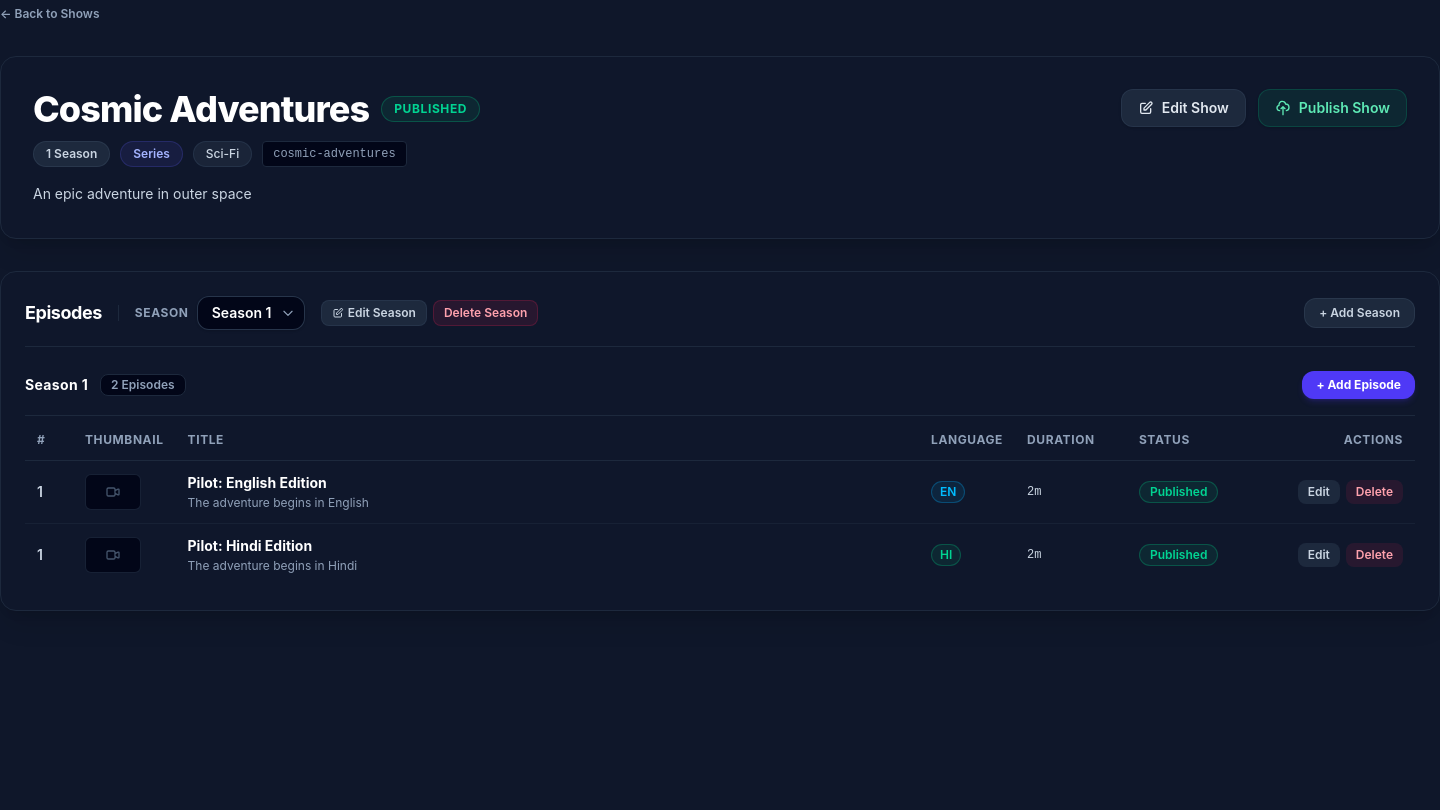
Test case: CMS Episode Management › deletes an episode with confirmation dialog
Click the button with test id "delete-episode-ep-101-en".
click(1374, 492)  # box [1346,480,1403,504]
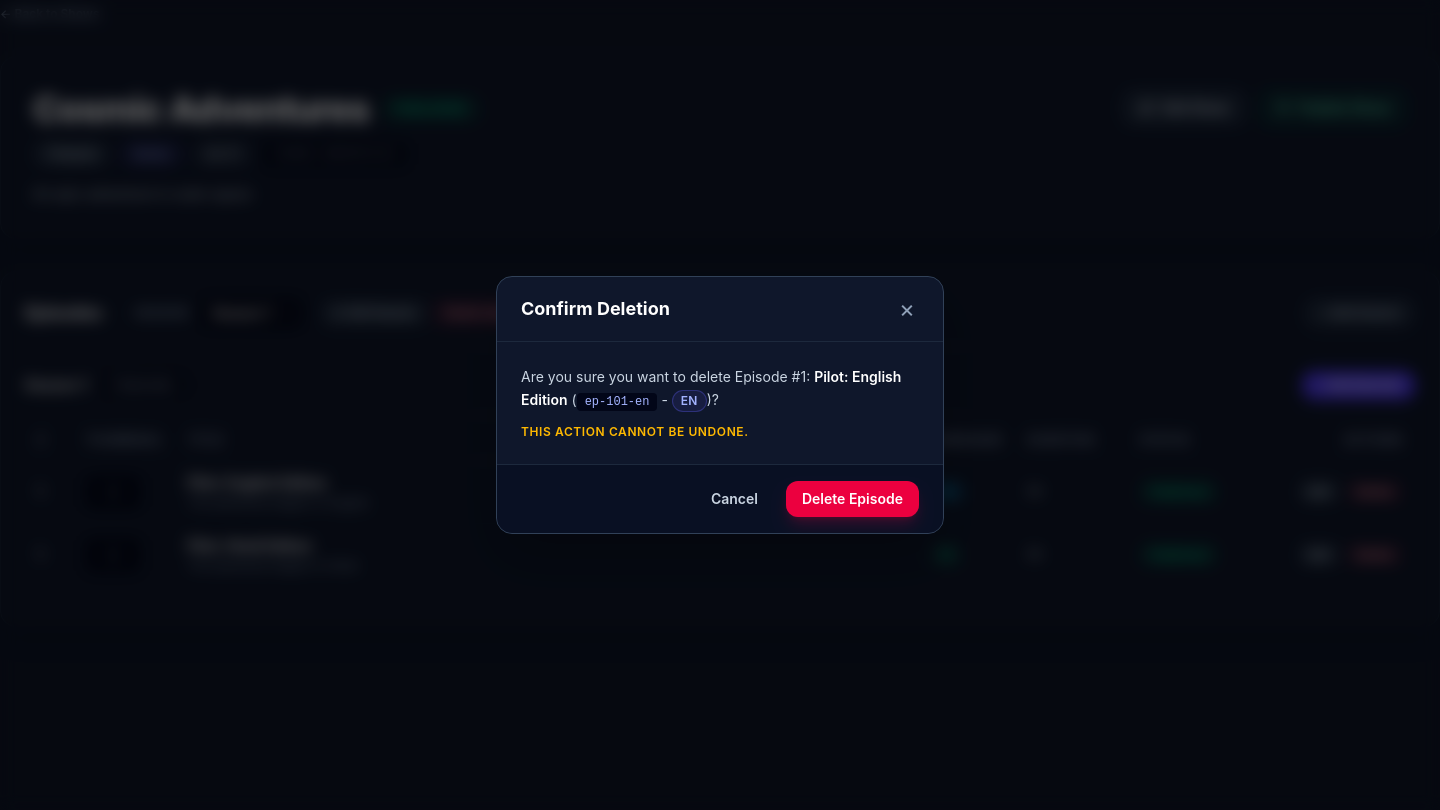
Now the heading "Confirm Deletion" is shown, box [521,295,670,323]
Now the text "Are you sure you want to delete Episode #1" is shown, box [521,366,919,412]
Click the button with test id "confirm-delete-episode-btn".
click(852, 499)  # box [786,481,919,517]
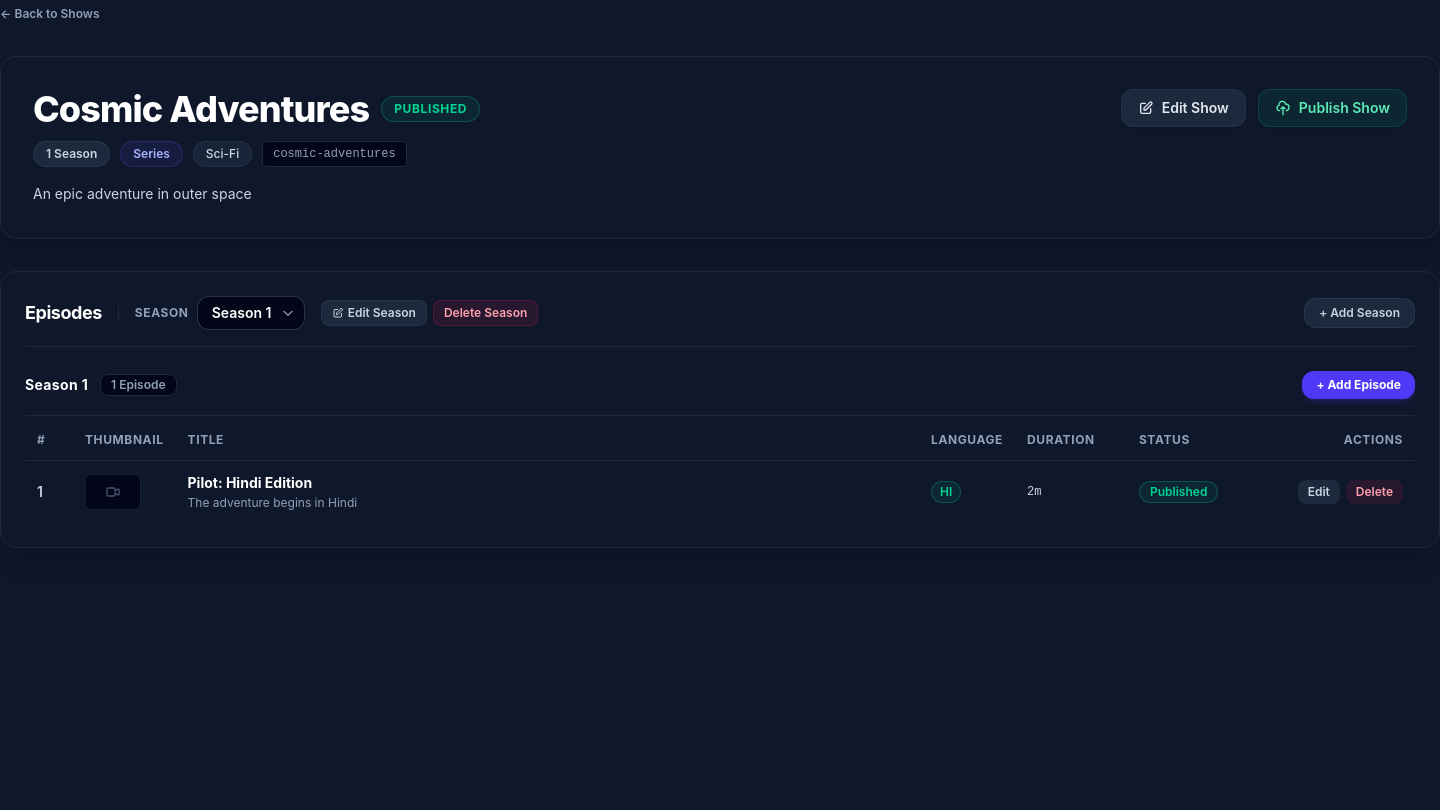
Now the text "Pilot: English Edition" is gone
